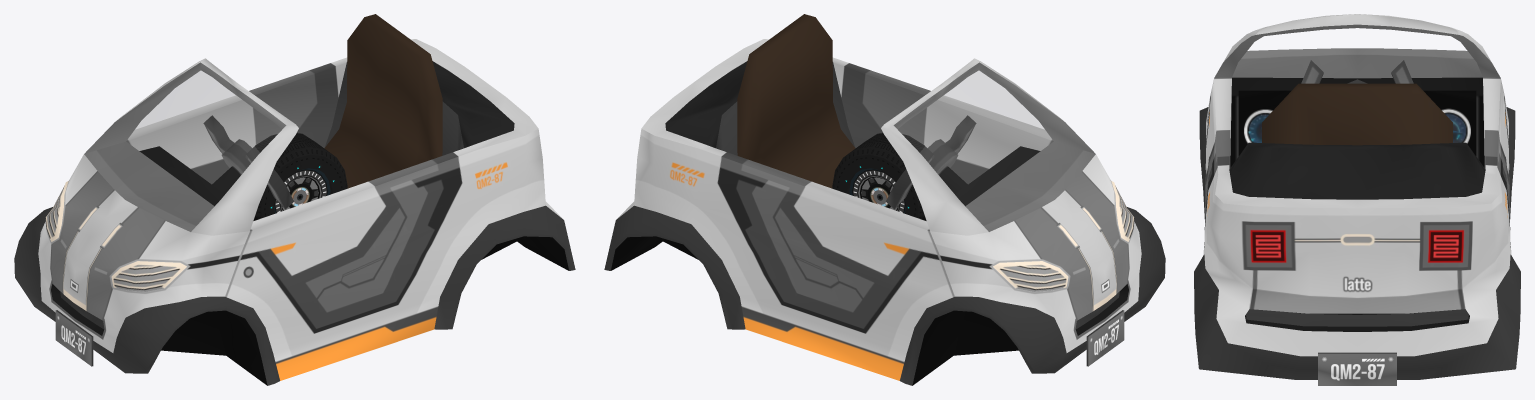
Rendered from car.glb.
The picture shows the model from 3 angles, left to right: view 1: azimuth 30°, elevation 25°; view 2: azimuth 150°, elevation 25°; view 3: azimuth 270°, elevation 25°; orthographic projection. The views are drawn at different scales.
Visible parts, largest first — view 1: car, car_glass, car_wheel; view 2: car, car_glass, car_wheel; view 3: car.
Boxes of the visible parts, x1=… form: car: x1=14, y1=14, x2=575, y2=385; car_glass: x1=84, y1=63, x2=285, y2=231; car_wheel: x1=255, y1=133, x2=347, y2=219; car: x1=604, y1=14, x2=1165, y2=385; car_glass: x1=894, y1=63, x2=1095, y2=231; car_wheel: x1=832, y1=133, x2=924, y2=219; car: x1=1194, y1=14, x2=1520, y2=385.
Size of the model in its own units: 3.7 by 2.05 by 2.21.
2 materials, 1 textured.
